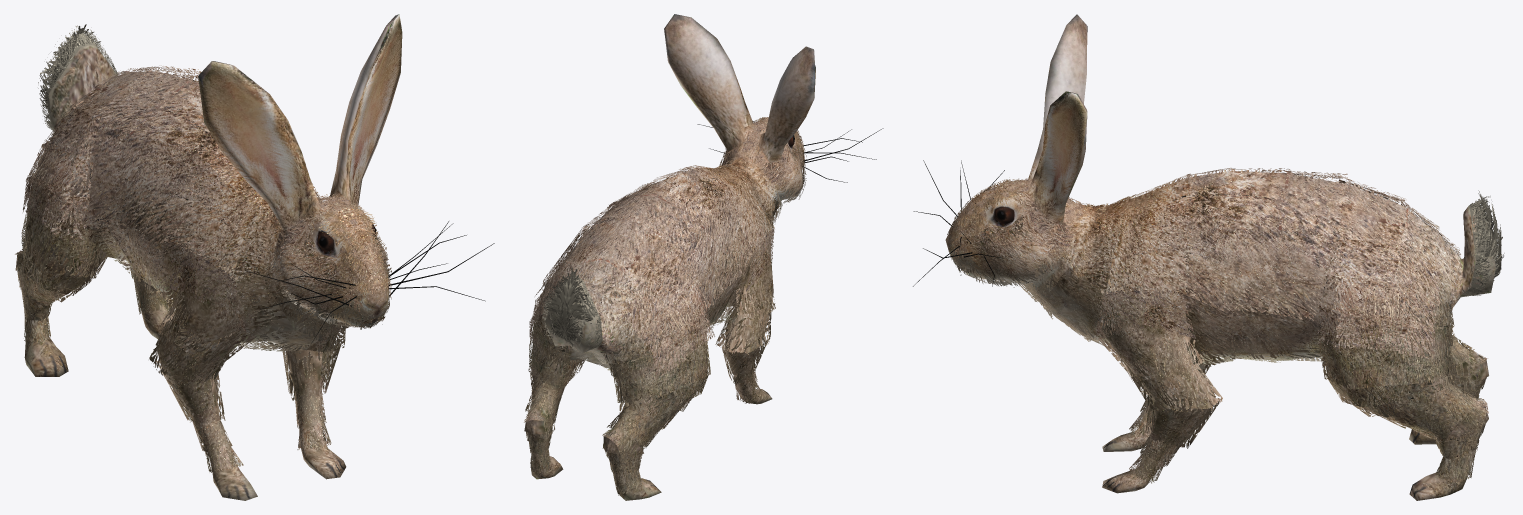
Rendered from rabbit20002.obj.
The picture shows the model from 3 angles, left to right: view 1: azimuth 30°, elevation 25°; view 2: azimuth 150°, elevation 25°; view 3: azimuth 270°, elevation 25°; orthographic projection. The views are drawn at different scales.
Visible parts, largest first — view 1: Rabbit, Fur; view 2: Rabbit, Fur; view 3: Fur, Rabbit.
Part boxes in pixels (x1,y1,x2,y2): Rabbit: (17,14,494,500); Fur: (15,24,391,473); Rabbit: (526,14,883,500); Fur: (524,117,806,495); Fur: (947,168,1504,483); Rabbit: (913,14,1495,500).
Size of the model in its own units: 7.47 by 14.86 by 19.42.
